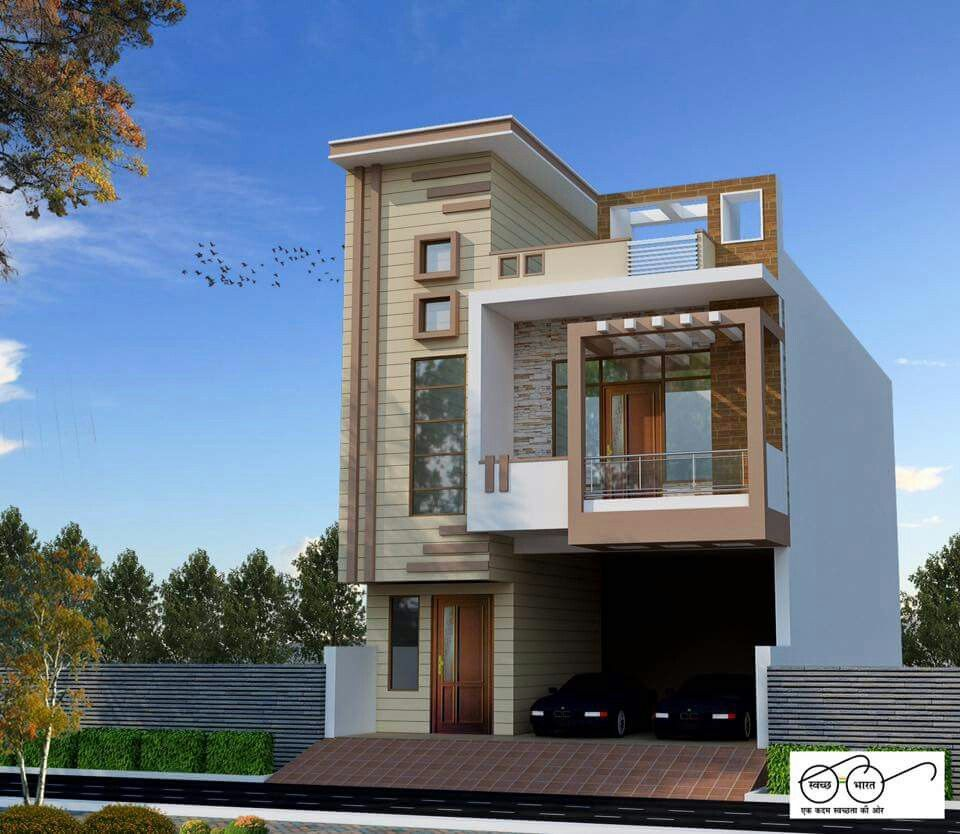Building House: (315, 114, 913, 740)
